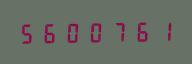five: (17, 21, 38, 45)
one: (149, 19, 170, 42)
seven: (105, 19, 126, 43)
six: (39, 20, 60, 44), (127, 19, 148, 43)
zero: (61, 20, 82, 44), (83, 20, 104, 43)
